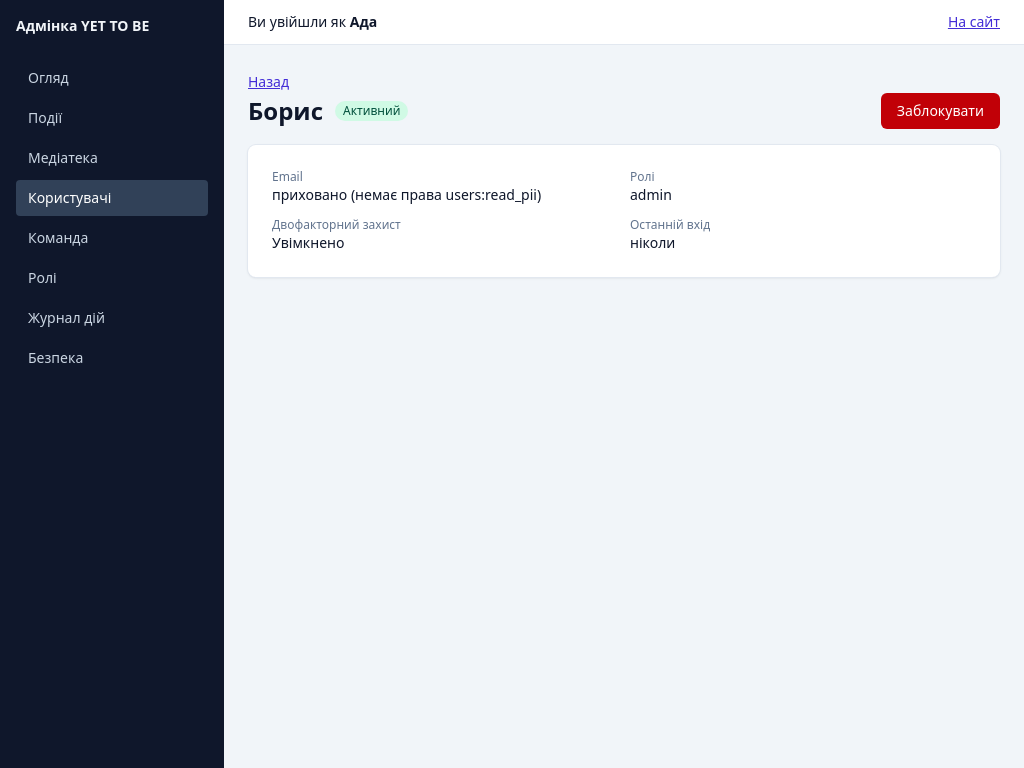
it: користувачі › блокування адміна просить підтвердження й повторює запит
Click the button "Заблокувати" at (940, 111), box 881,93 -> 1000,129
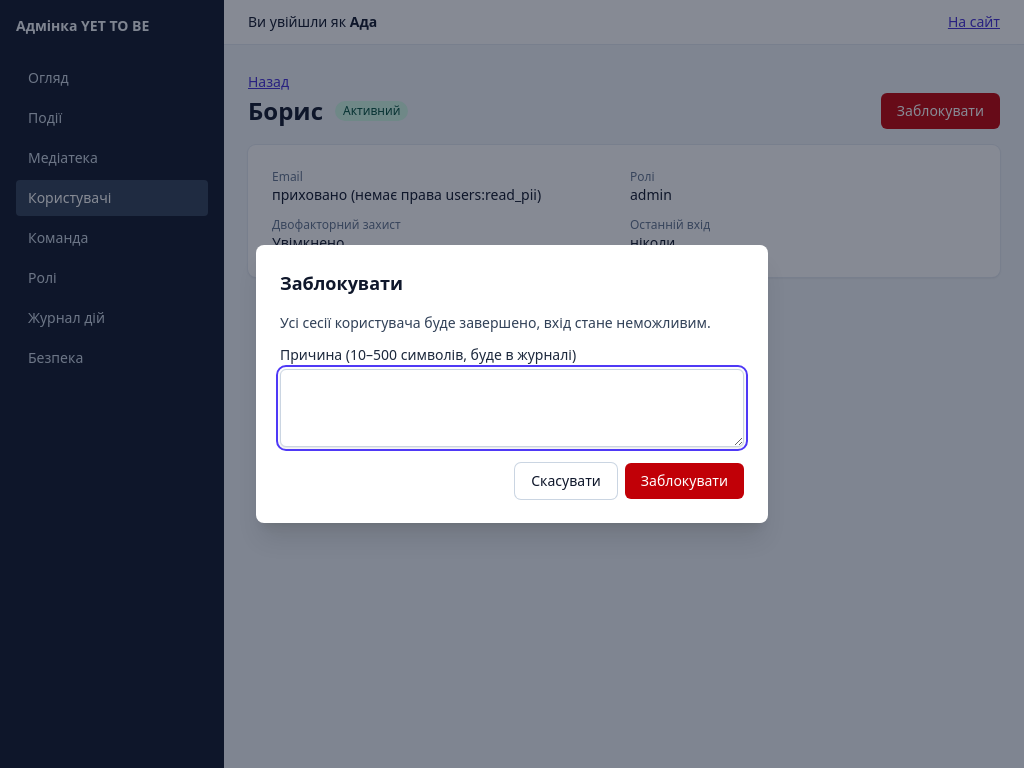
Type "Порушення правил" into the text box labelled "Причина (10–500 символів, буде в журналі)" at (512, 408), box 280,369 -> 744,447
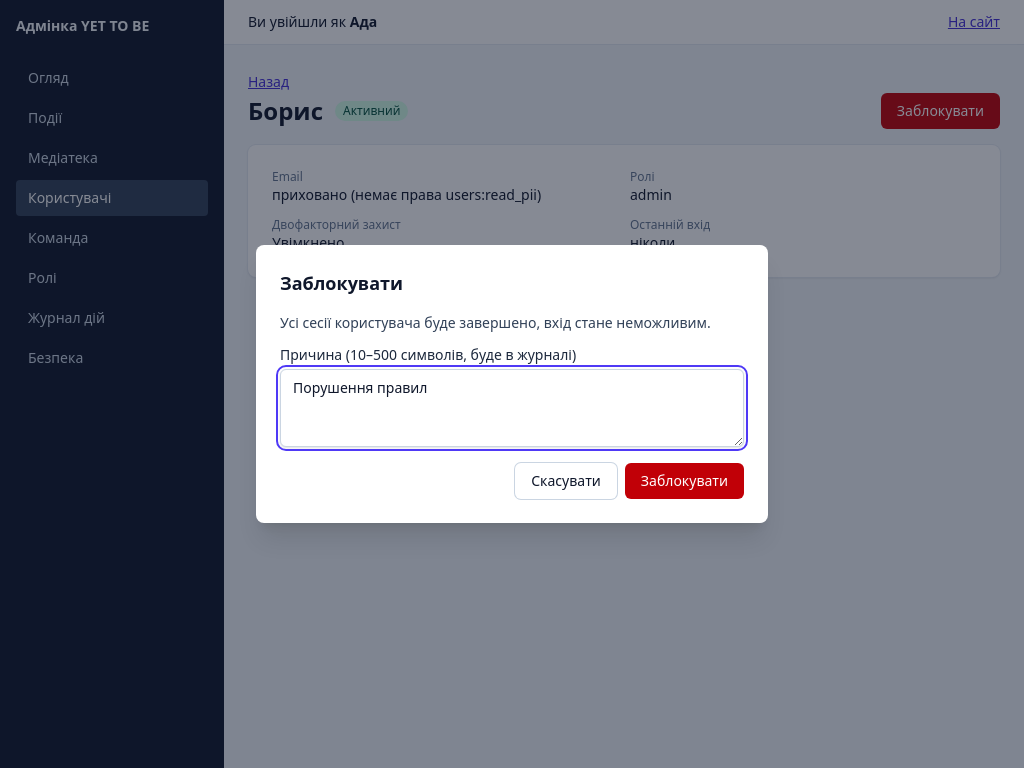
Click the button "Заблокувати" at (684, 481), box 625,463 -> 744,499
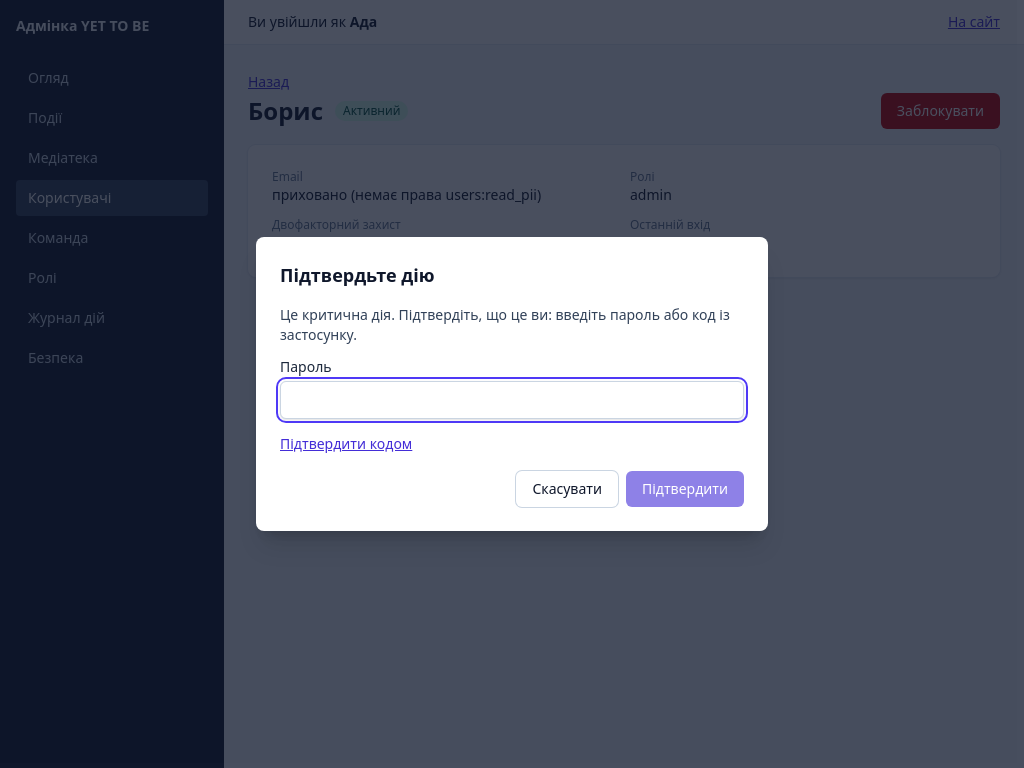
Type "correct horse" into the password field labelled "Пароль" at (512, 400), box 280,381 -> 744,419
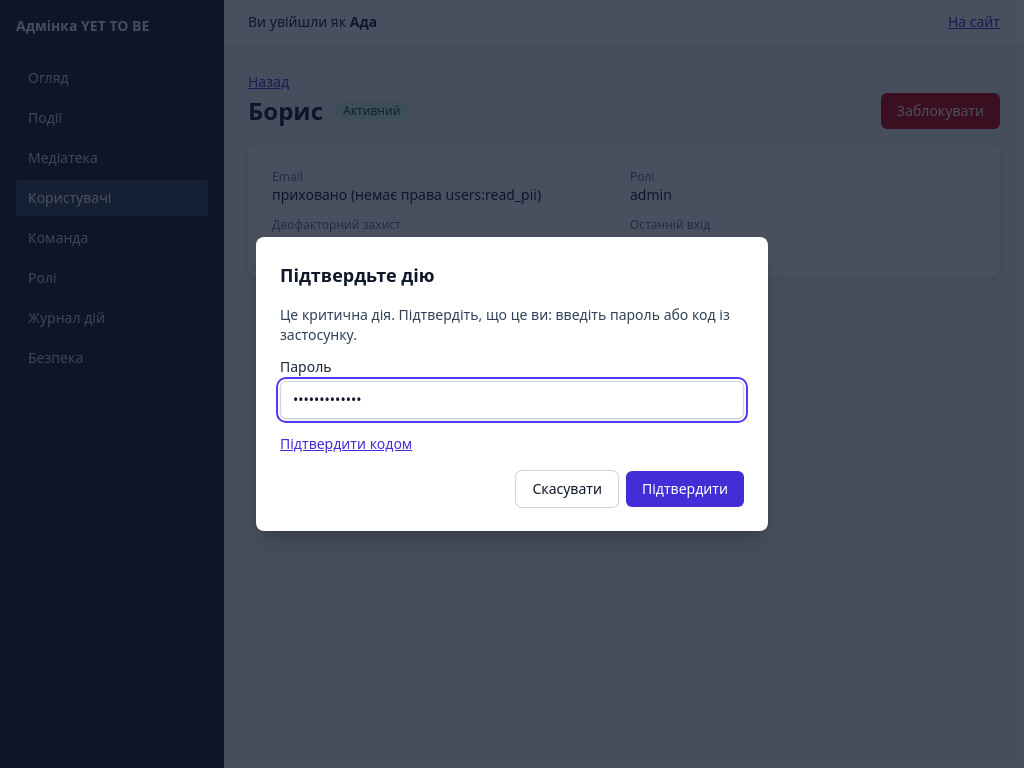
Click the button "Підтвердити" at (685, 489), box 626,471 -> 744,507
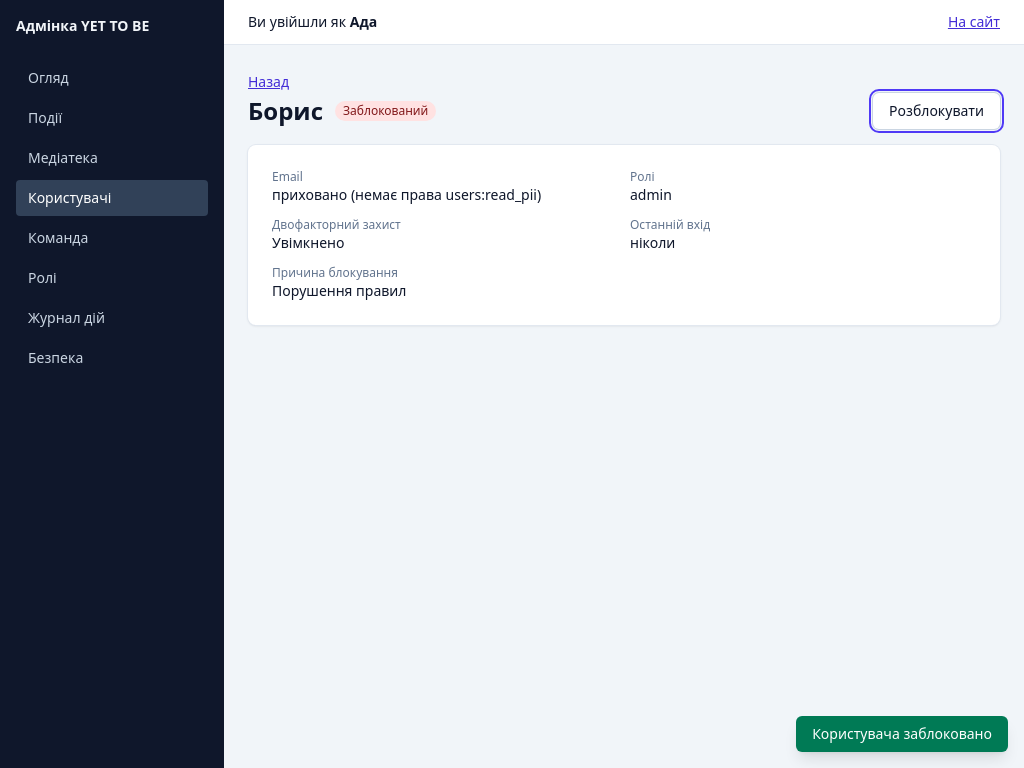
Expected: the text "Заблокований" is shown, 335,101 -> 436,121
